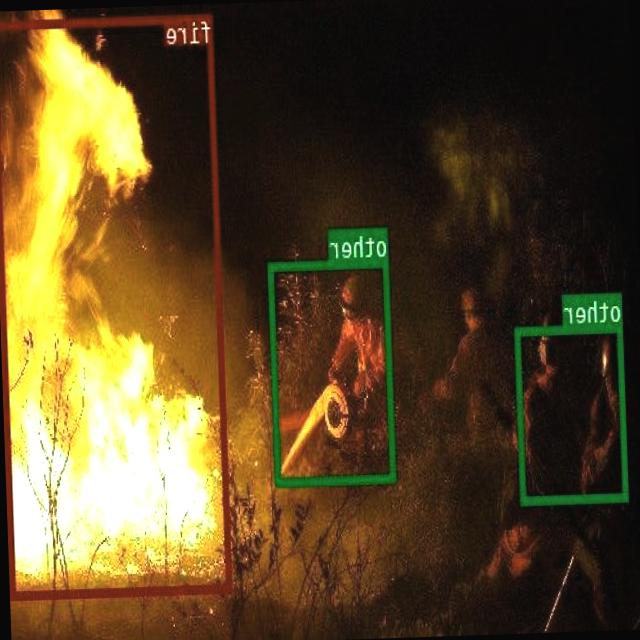fire: (0, 12, 232, 597)
